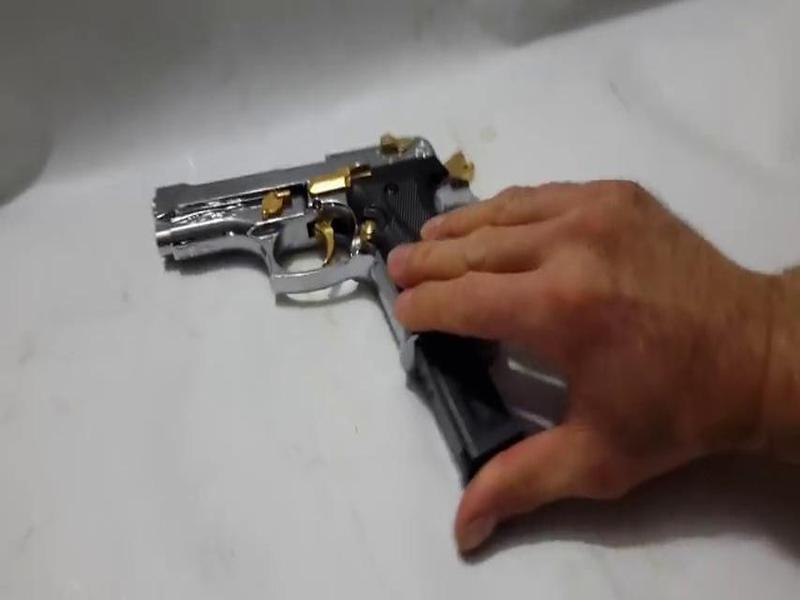Pistola: (130, 124, 553, 362)
